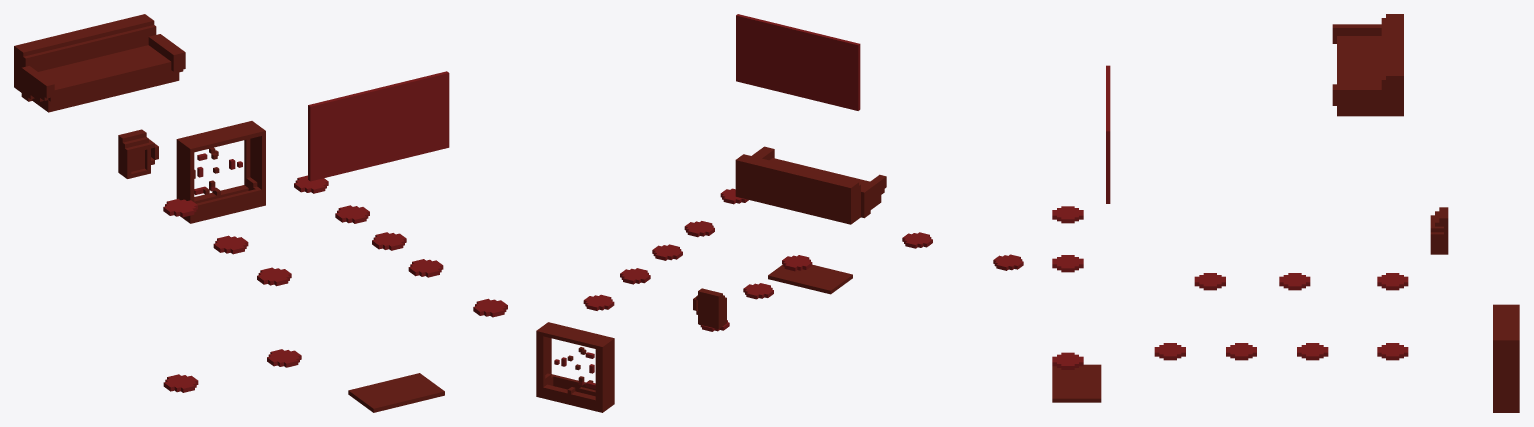
Rendered from red material.obj.
3 views of the same model, side by side, from view 1: azimuth 30°, elevation 25°; view 2: azimuth 150°, elevation 25°; view 3: azimuth 270°, elevation 25° (orthographic). The views are drawn at different scales.
Parts seen in each view (by area): view 1: red material; view 2: red material; view 3: red material.
Boxes of the visible parts, left/top/right/bottom form: red material: left=14, top=14, right=507, bottom=412; red material: left=536, top=14, right=1023, bottom=412; red material: left=1052, top=14, right=1519, bottom=412.
Size of the model in its own units: 85 by 71 by 105.
Materials: 1 (1 with a texture image).
